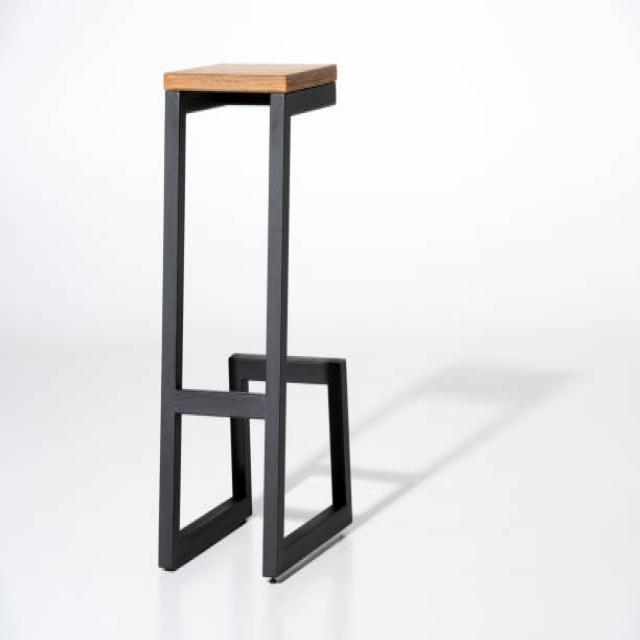table: (156, 61, 352, 582)
